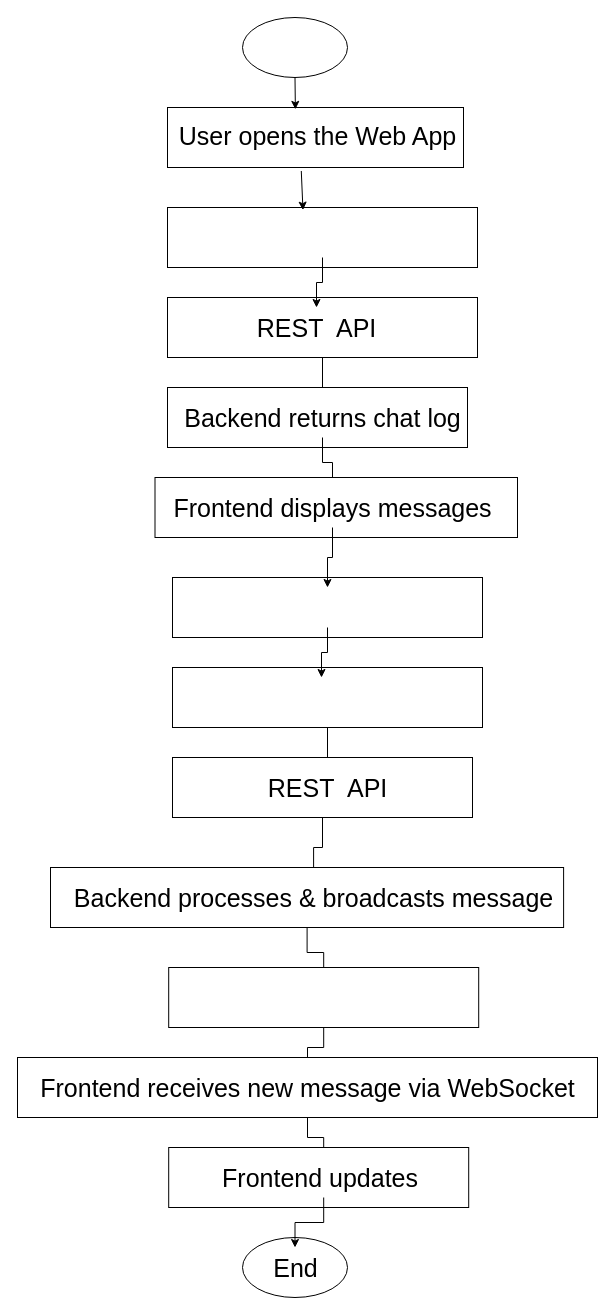
The diagram is 615 pixels wide and 1315 high, and some of its shapes have lost their labels. The box of each missing label's shape, as (x1, y1, x2, y2) in pixels:
Frontend fetches initial log: (166, 206, 478, 268)
Start: (242, 16, 348, 78)
User clicks Send: (172, 666, 482, 728)
User types a message: (172, 576, 482, 638)
Web Socket: (168, 966, 479, 1028)
